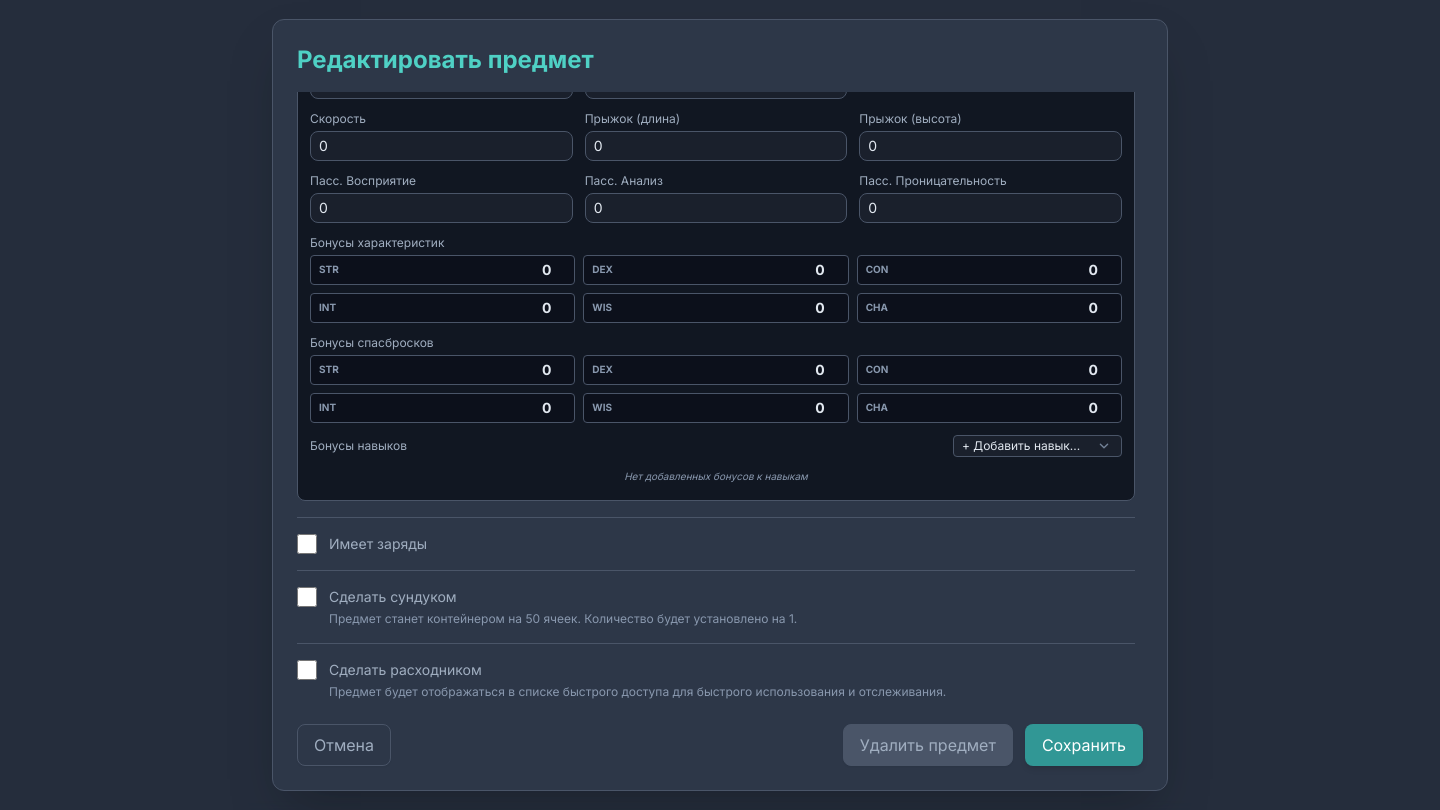
Test: ItemDetailModal (smoke after split) › включение «Имеет заряды» раскрывает редактор зарядов с дефолтом 1
(page scrolled)
Expected: the field labelled "Максимум зарядов" is not shown
Click the checkbox labelled "Имеет заряды" at coordinates (307, 544), box [297, 534, 317, 554]
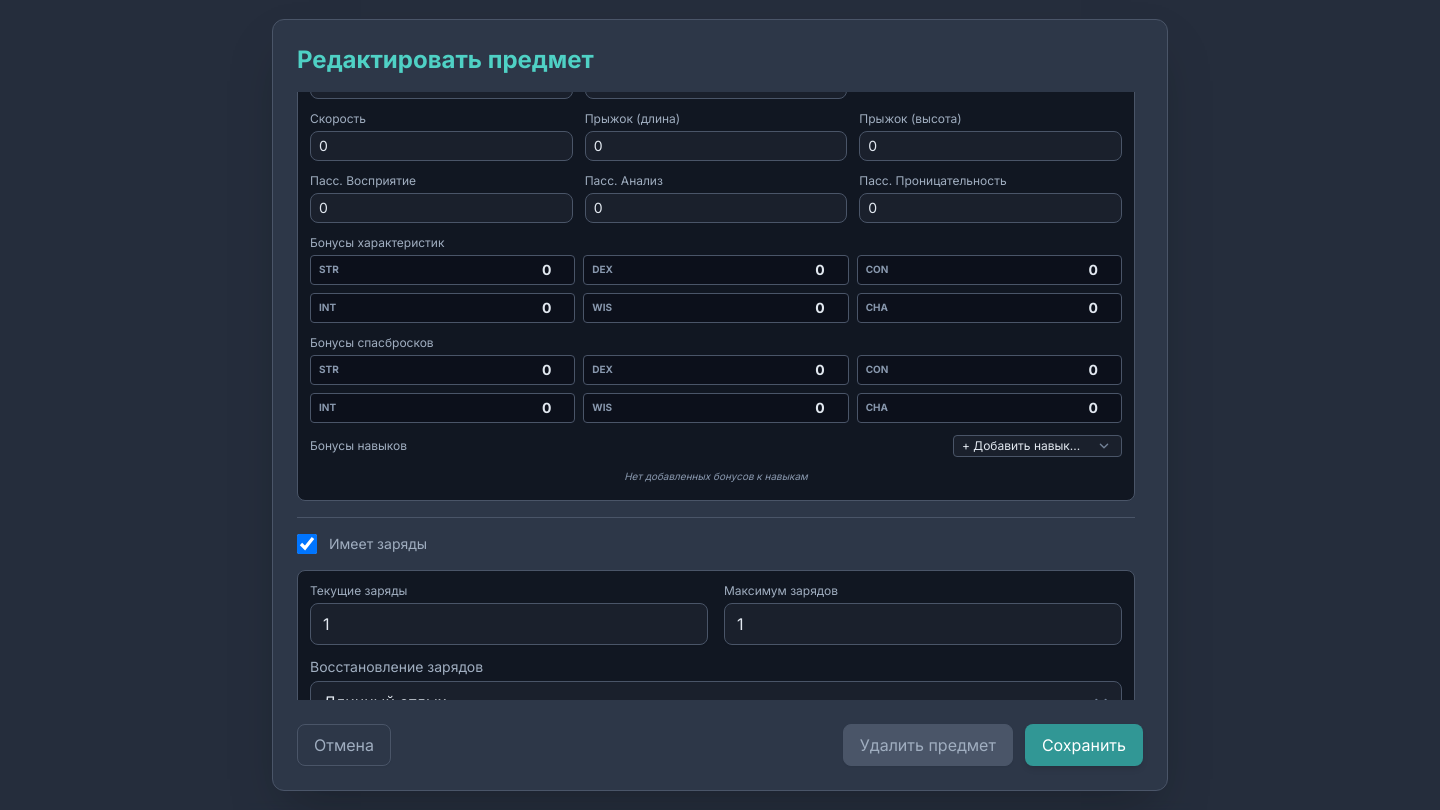
Result: the number field labelled "Максимум зарядов" holds "1" at [724, 603, 1122, 645]
Result: the number field labelled "Текущие заряды" holds "1" at [310, 603, 708, 645]
